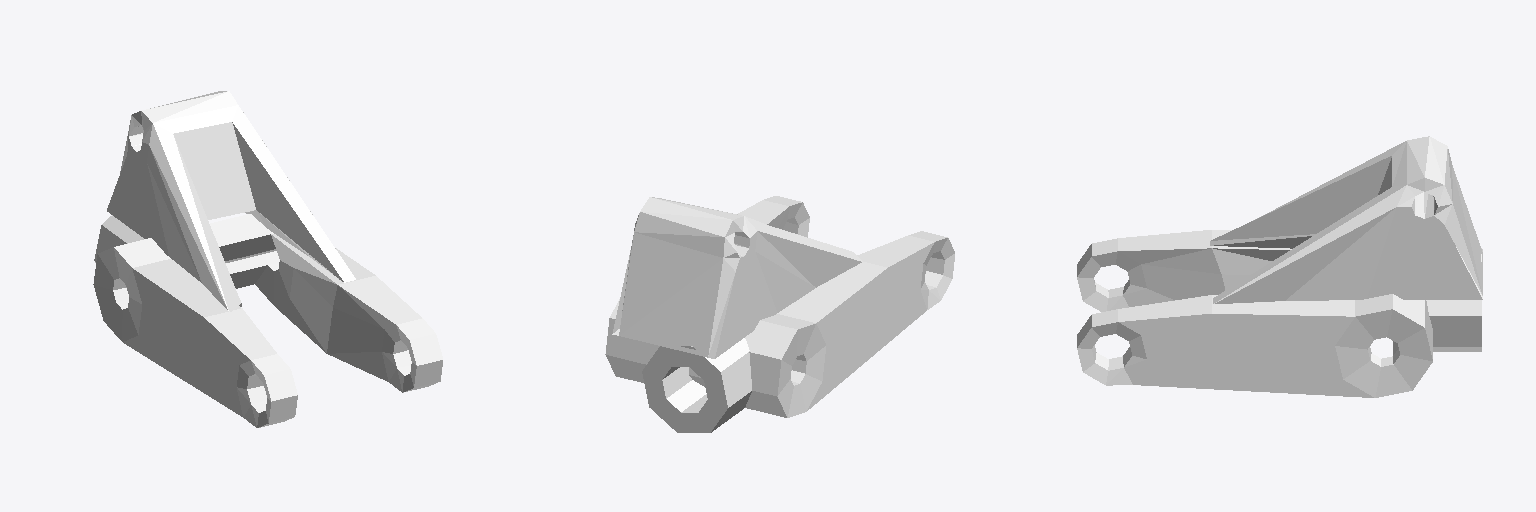
The model's file is l_uglut.obj.
3 renders of one model, left to right at view 1: azimuth 30°, elevation 25°; view 2: azimuth 150°, elevation 25°; view 3: azimuth 270°, elevation 25°, orthographic.
Visible parts, largest first — view 1: l_uglut_l_uglutMesh; view 2: l_uglut_l_uglutMesh; view 3: l_uglut_l_uglutMesh.
Part boxes in pixels (bbox=[...]): l_uglut_l_uglutMesh: bbox=[93, 91, 442, 427]; l_uglut_l_uglutMesh: bbox=[605, 196, 954, 432]; l_uglut_l_uglutMesh: bbox=[1077, 136, 1482, 397].
Size of the model in its own units: 0.0824 by 0.0922 by 0.1684.